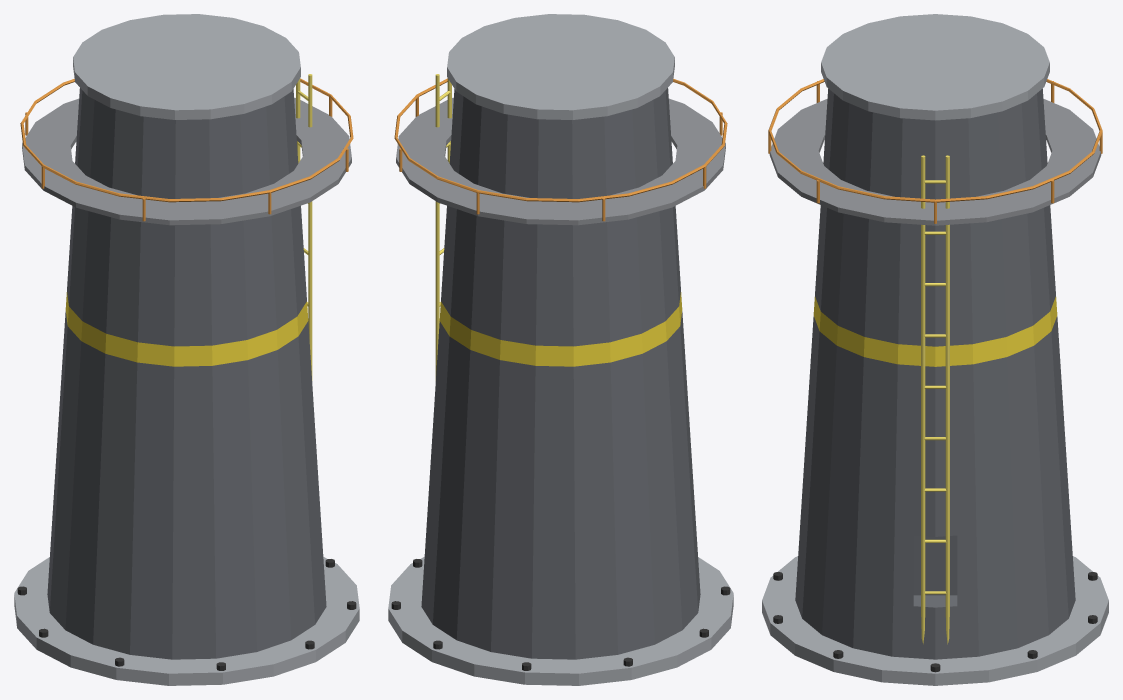
Rendered from reactor steel skirt.fbx.
The picture shows the model from 3 angles, left to right: view 1: azimuth 30°, elevation 25°; view 2: azimuth 150°, elevation 25°; view 3: azimuth 270°, elevation 25°; orthographic projection.
Visible parts, largest first — view 1: Reactor_Skirt_Support; view 2: Reactor_Skirt_Support; view 3: Reactor_Skirt_Support.
Part boxes in pixels (<box>): Reactor_Skirt_Support: <box>14,14,359,685</box>; Reactor_Skirt_Support: <box>388,14,733,685</box>; Reactor_Skirt_Support: <box>762,14,1108,685</box>.
Bounding box in the file's own units: 128 × 224 × 128.
